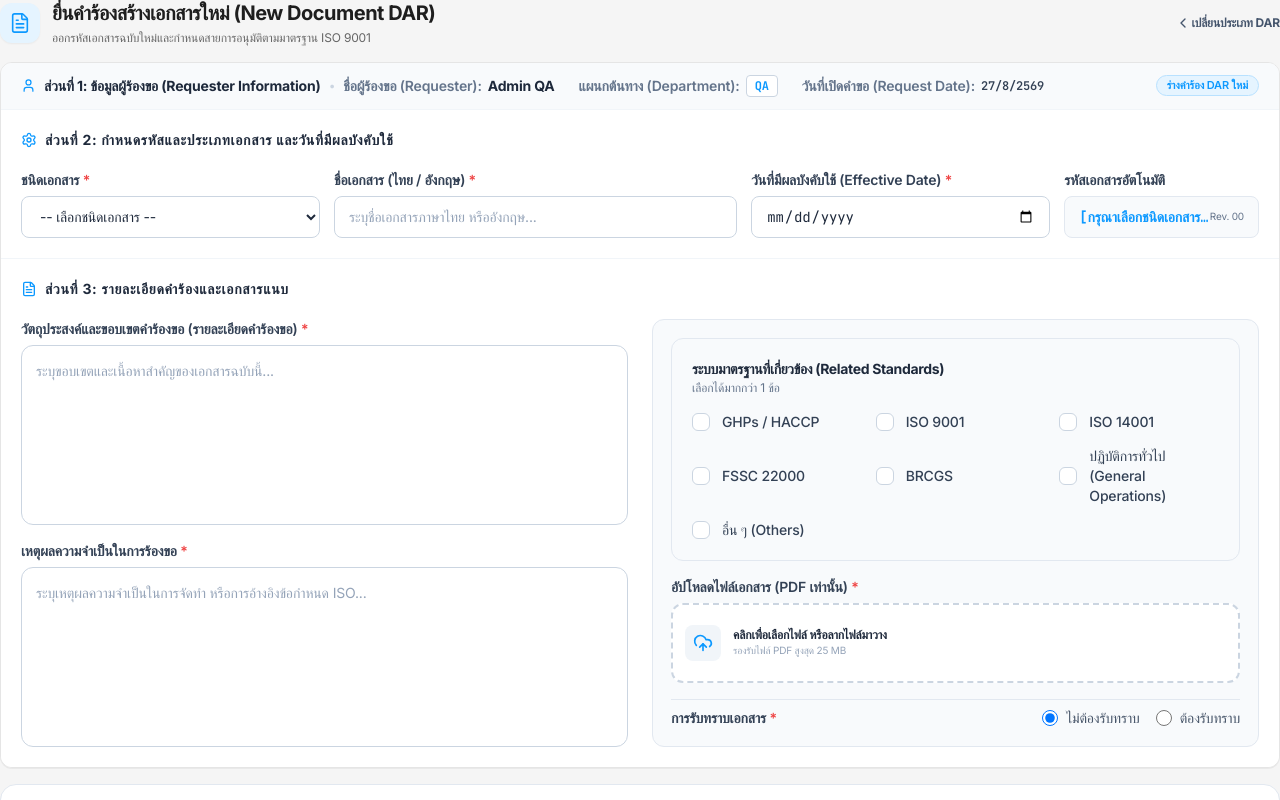
Test case: Layout Cleanliness & Ghost Container Elimination Tests › renders FormDistributionSetup when docType is FM and does not render Controlled Copy Matrix
Select docType: FM
Select "Form / Record Format (FM)" in the dropdown at (170, 216), box x1=21 y1=196 x2=320 y2=238
(page scrolled)
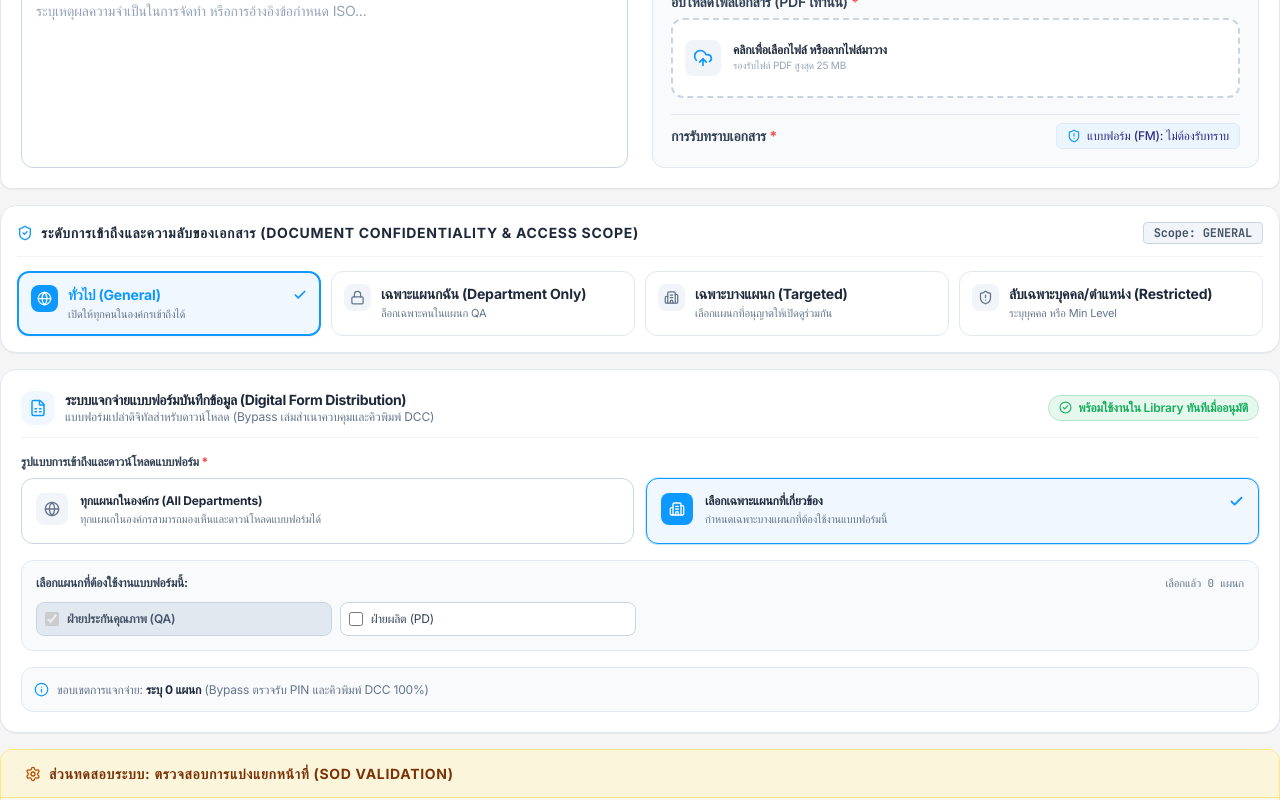
Result: the heading "ระบบแจกจ่ายแบบฟอร์มบันทึกข้อมูล (Digital Form Distribution)" is shown at x1=65 y1=390 x2=434 y2=409
